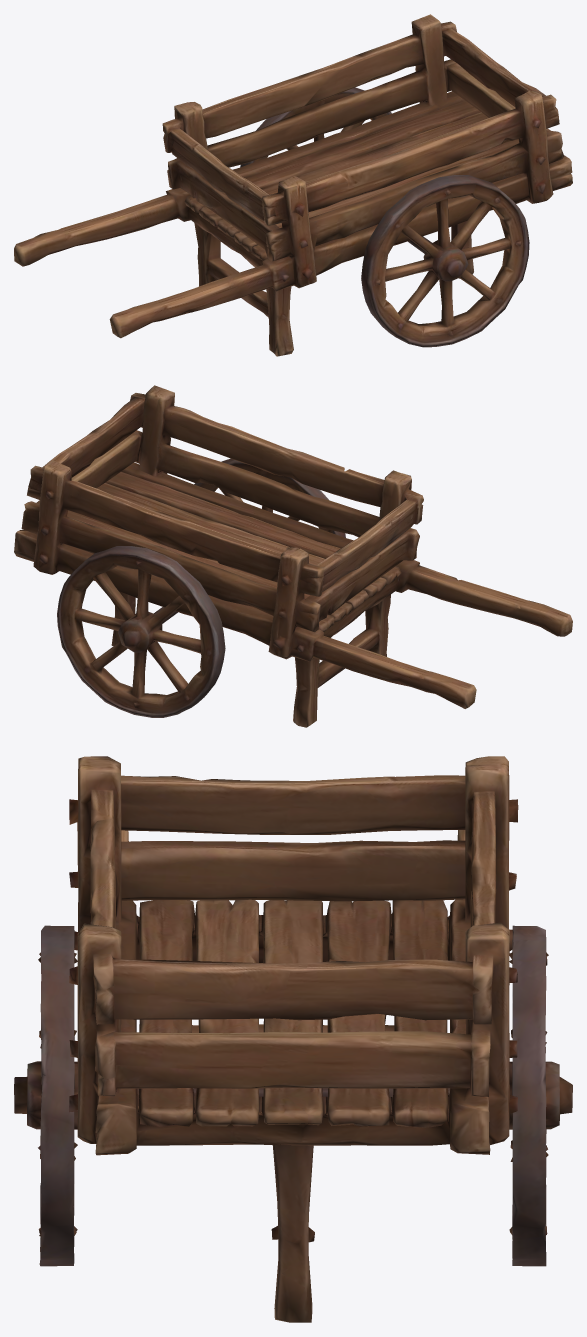
File: handcart.glb
3 renders of one model, top to bottom at view 1: azimuth 30°, elevation 25°; view 2: azimuth 150°, elevation 25°; view 3: azimuth 270°, elevation 25°, orthographic. The views are drawn at different scales.
Parts seen in each view (by area): view 1: tripo_node_d68d9b5c-1653-42c0-8296-ba9339836974; view 2: tripo_node_d68d9b5c-1653-42c0-8296-ba9339836974; view 3: tripo_node_d68d9b5c-1653-42c0-8296-ba9339836974.
Part boxes in pixels (x1,y1,x2,y2): tripo_node_d68d9b5c-1653-42c0-8296-ba9339836974: (14,14,572,356); tripo_node_d68d9b5c-1653-42c0-8296-ba9339836974: (14,385,572,727); tripo_node_d68d9b5c-1653-42c0-8296-ba9339836974: (14,756,572,1322).
Size of the model in its own units: 1 by 0.4522 by 0.5614.
Materials: 1 (1 with a texture image).
